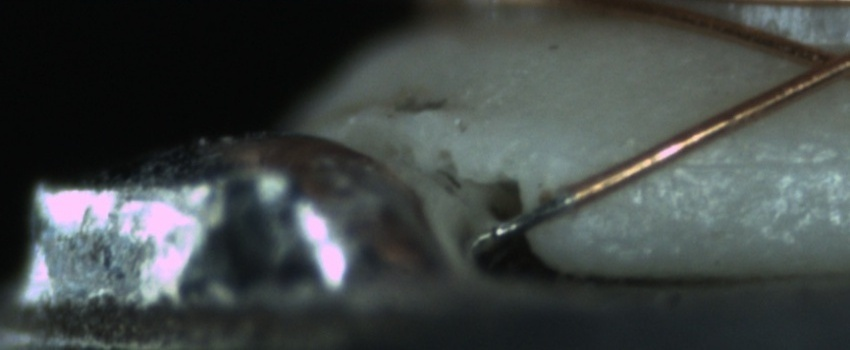CL: (779, 33, 848, 91)
DL: (649, 134, 845, 194)
TS: (477, 189, 580, 245)
TTCW: (475, 177, 604, 246)
